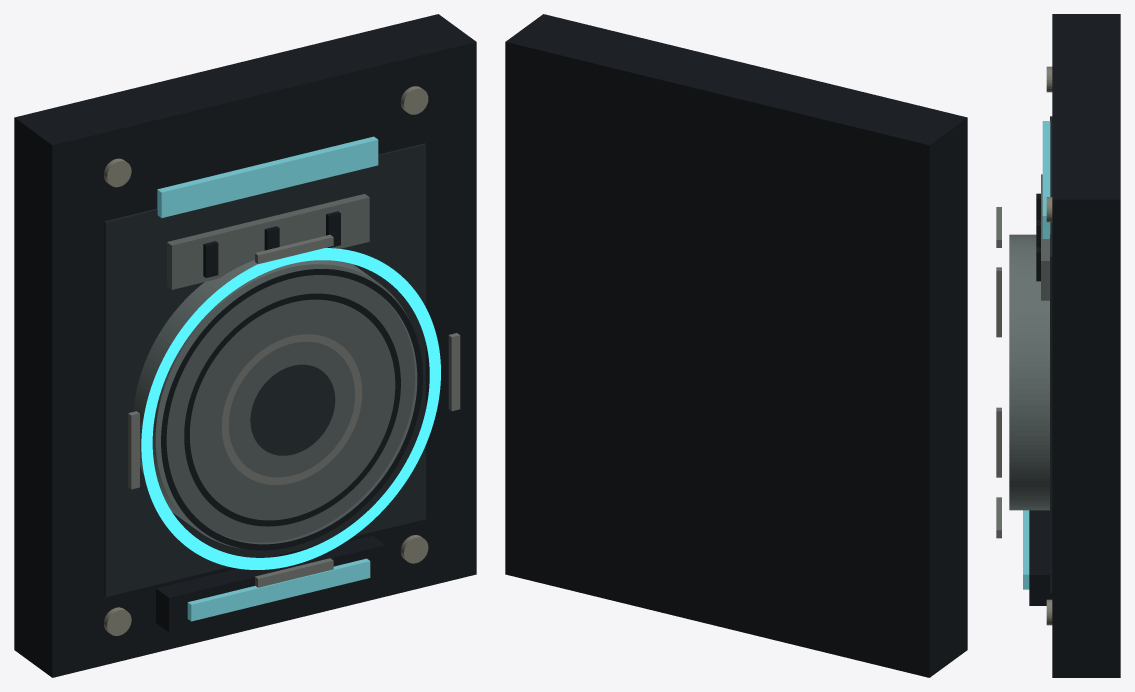
The model's file is hp_service_elevator_call_buttons.glb.
The picture shows the model from 3 angles, left to right: view 1: azimuth 30°, elevation 25°; view 2: azimuth 150°, elevation 25°; view 3: azimuth 270°, elevation 25°; orthographic projection. The views are drawn at different scales.
Visible parts, largest first — view 1: service_elevator_call_panel_back_mount, service_elevator_call_button_plunger_face, service_elevator_call_panel_dark_recess, service_elevator_call_button_glass_ring, service_elevator_call_button_plunger_body, service_elevator_call_panel_brushed_service_plate, service_elevator_call_panel_top_readout_cyan, service_elevator_call_button_plunger_dark_center_cap, service_elevator_call_button_integrated_shadow_slot, service_elevator_call_button_inner_shadow_ring, service_elevator_call_button_plunger_dark_cutline_ring, service_elevator_call_button_integrated_status_glass (+5 smaller); view 2: service_elevator_call_panel_back_mount; view 3: service_elevator_call_panel_back_mount, service_elevator_call_button_plunger_body, service_elevator_call_button_integrated_shadow_slot, service_elevator_call_panel_dark_recess, service_elevator_call_panel_top_readout_cyan, service_elevator_call_panel_brushed_service_plate, service_elevator_call_button_integrated_status_glass, service_elevator_call_button_machined_tick_left, service_elevator_call_button_machined_tick_right, service_elevator_call_button_machined_tick_bottom, service_elevator_call_button_machined_tick_top.
Part boxes in pixels (x1,y1,x2,y2): service_elevator_call_panel_back_mount: (14,14,476,677); service_elevator_call_button_plunger_face: (166,275,415,542); service_elevator_call_panel_dark_recess: (104,143,425,597); service_elevator_call_button_glass_ring: (141,248,440,569); service_elevator_call_button_plunger_body: (133,260,417,548); service_elevator_call_panel_brushed_service_plate: (167,194,369,289); service_elevator_call_panel_top_readout_cyan: (157,136,378,218); service_elevator_call_button_plunger_dark_center_cap: (250,364,335,455); service_elevator_call_button_integrated_shadow_slot: (156,535,385,632); service_elevator_call_button_inner_shadow_ring: (161,269,422,550); service_elevator_call_button_plunger_dark_cutline_ring: (184,293,400,526); service_elevator_call_button_integrated_status_glass: (187,558,370,621); service_elevator_call_panel_back_mount: (505,14,967,677); service_elevator_call_panel_back_mount: (1052,14,1120,677); service_elevator_call_button_plunger_body: (1009,234,1049,510); service_elevator_call_button_integrated_shadow_slot: (1029,510,1052,605); service_elevator_call_panel_dark_recess: (1050,116,1052,593); service_elevator_call_panel_top_readout_cyan: (1042,121,1050,238); service_elevator_call_panel_brushed_service_plate: (1041,174,1049,300); service_elevator_call_button_integrated_status_glass: (1023,510,1029,589); service_elevator_call_button_machined_tick_left: (996,267,1001,337); service_elevator_call_button_machined_tick_right: (996,407,1001,477); service_elevator_call_button_machined_tick_bottom: (996,497,1001,538); service_elevator_call_button_machined_tick_top: (996,207,1001,247).
Bounding box in the file's own units: 0.9 × 1.08 × 0.255.
